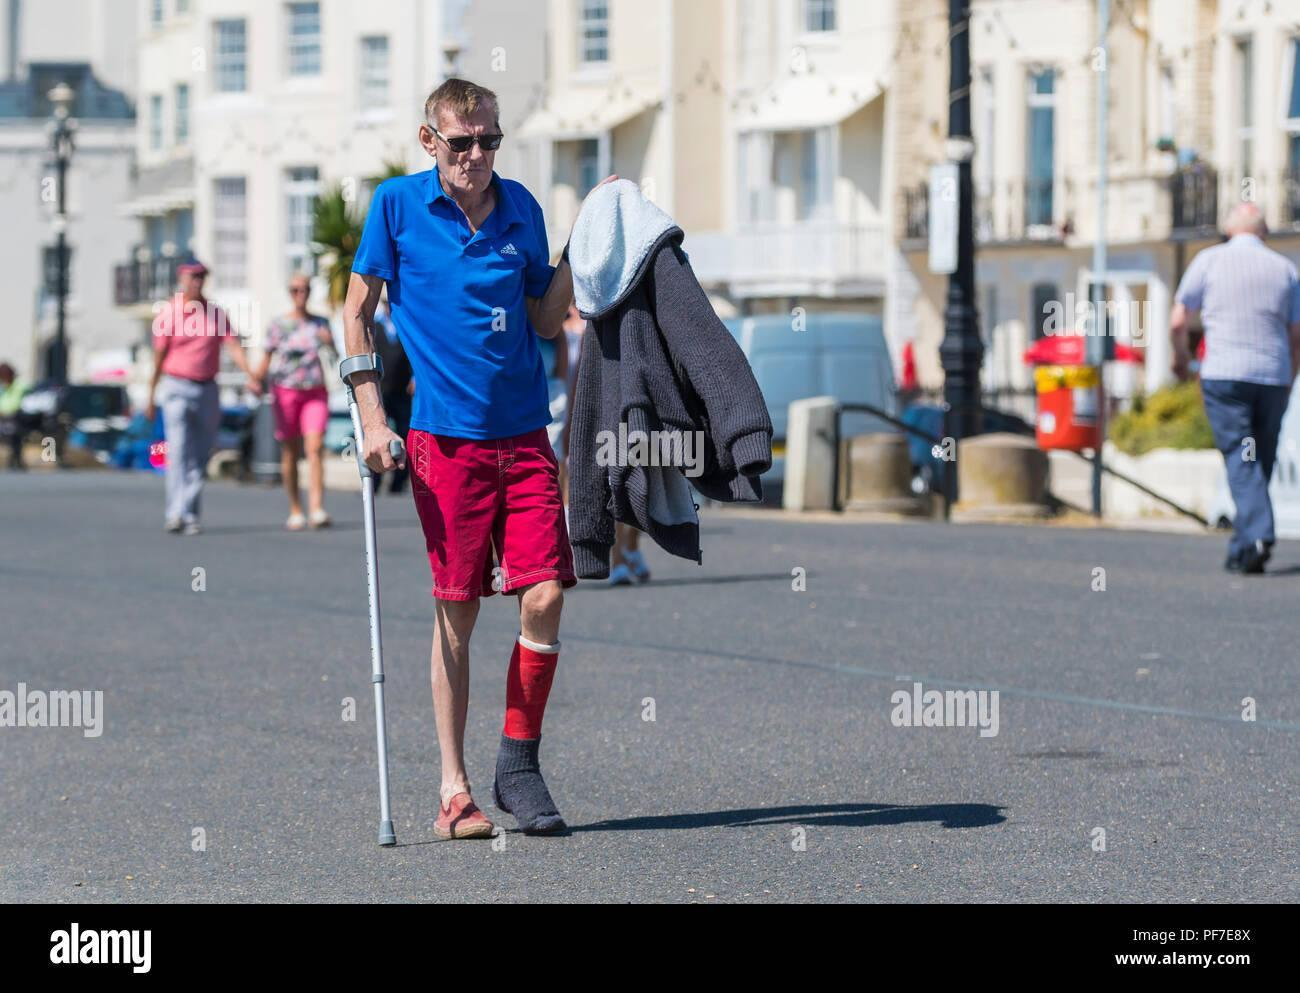crutches: (345, 66, 581, 863)
